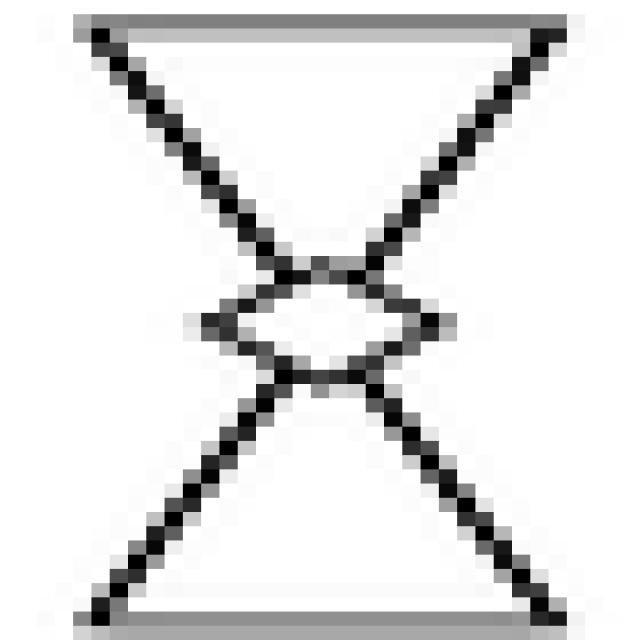Plug Valve: (77, 15, 572, 625)
